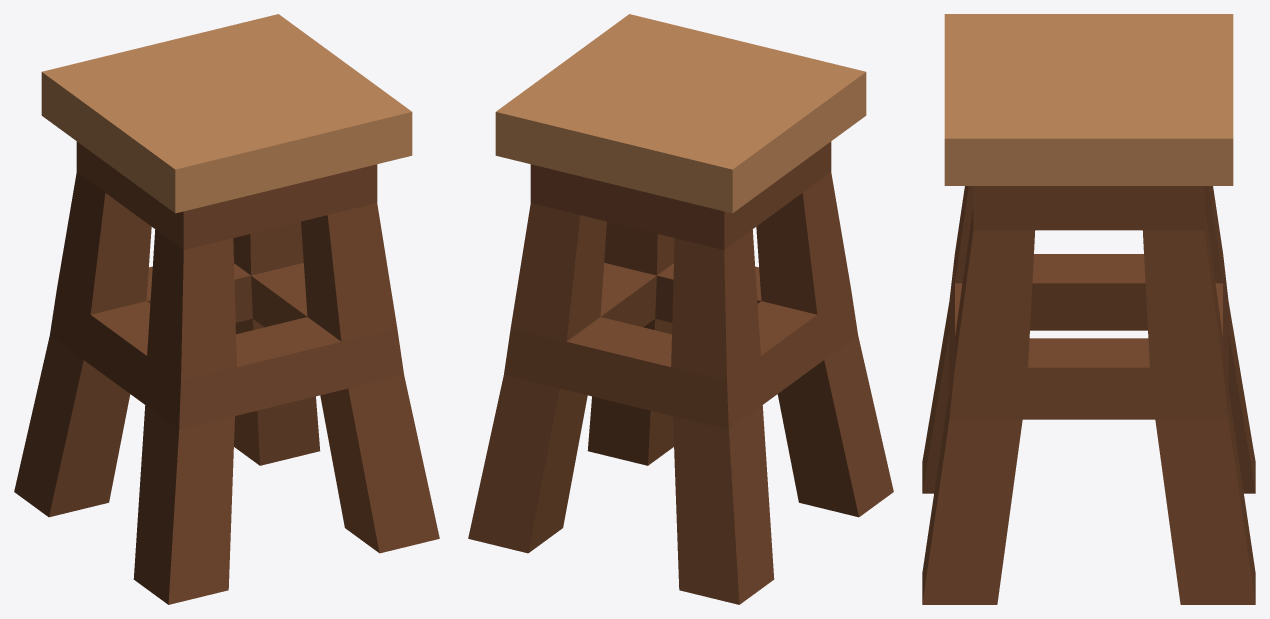
Rendered from Stool.glb.
3 views of the same model, side by side, from view 1: azimuth 30°, elevation 25°; view 2: azimuth 150°, elevation 25°; view 3: azimuth 270°, elevation 25° (orthographic). The views are drawn at different scales.
Bounding box in the file's own units: 0.3663 × 0.5463 × 0.361.
